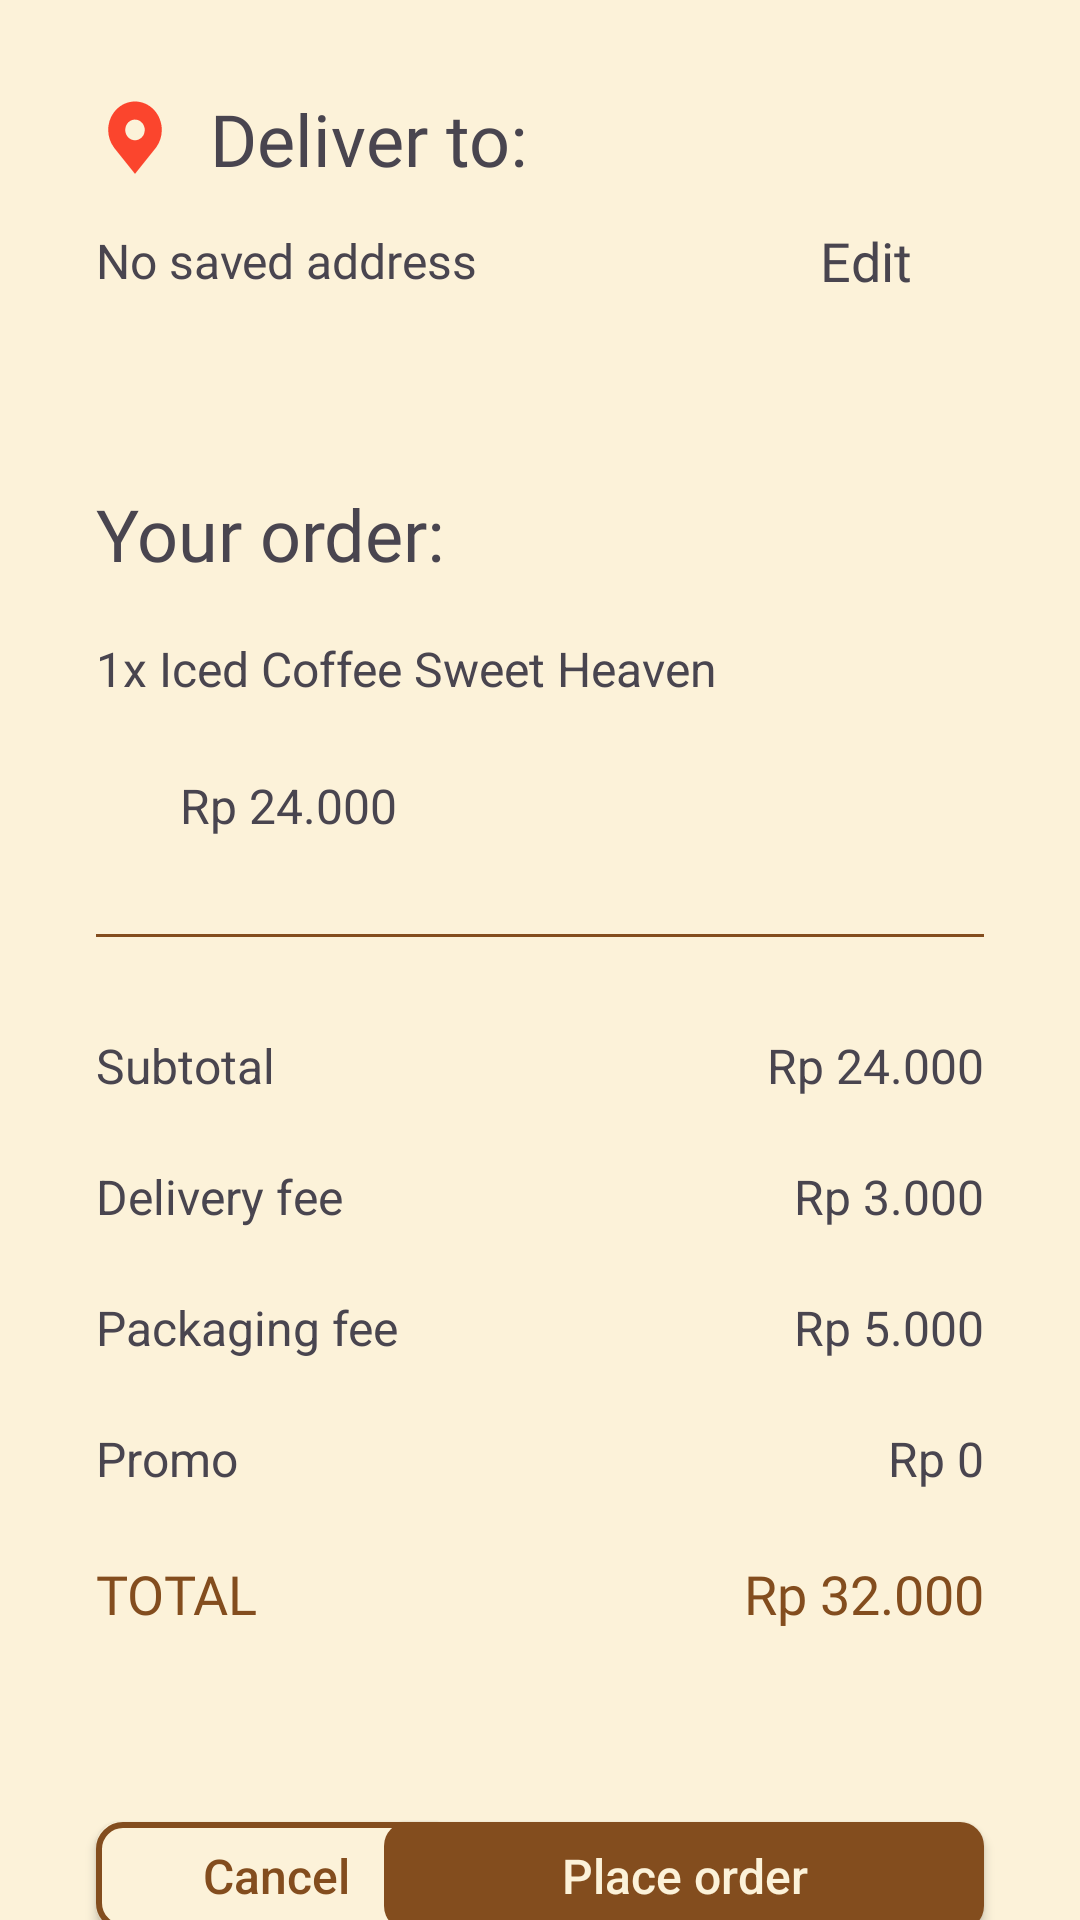

Locate icon controls on the screen. Image size 1080*1920, boxes as {"x1": x1, "y1": y1, "x2": x2, "y2": y2}.
location: {"x1": 108, "y1": 101, "x2": 162, "y2": 174}
